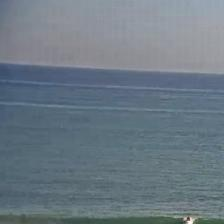surfer: (182, 216, 191, 224)
